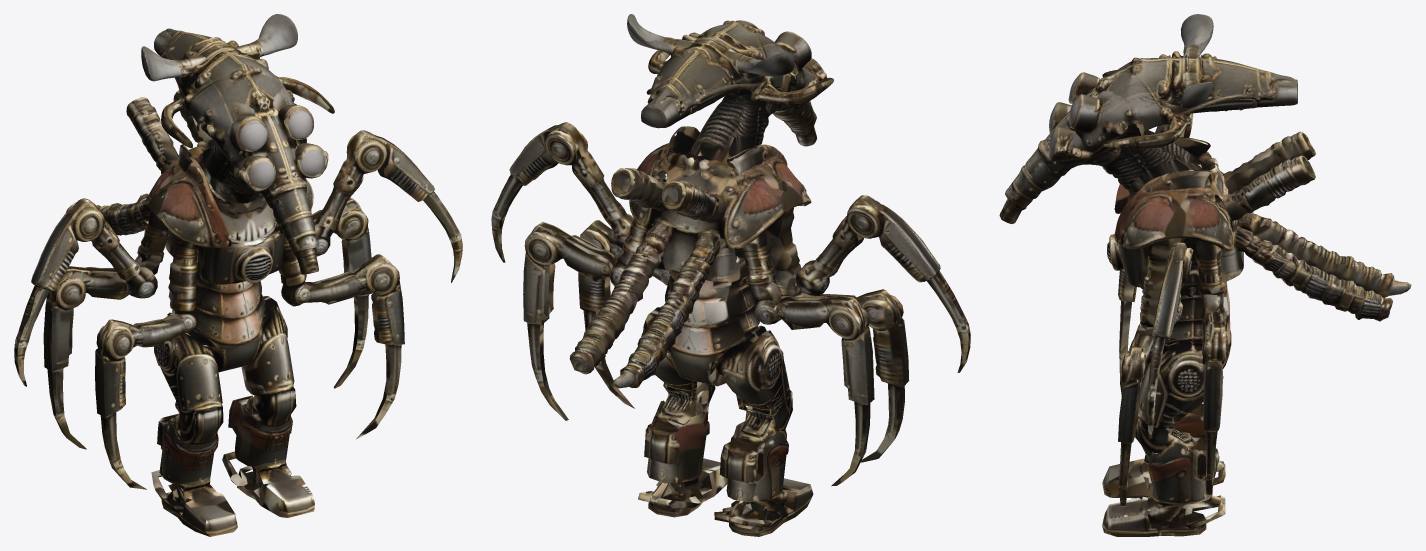
File: Mars.glb
3 renders of one model, left to right at view 1: azimuth 30°, elevation 25°; view 2: azimuth 150°, elevation 25°; view 3: azimuth 270°, elevation 25°, orthographic. The views are drawn at different scales.
Visible parts, largest first — view 1: Steampunk Robot; view 2: Steampunk Robot; view 3: Steampunk Robot.
Part boxes in pixels (x1,y1,x2,y2): Steampunk Robot: (14, 14, 462, 536); Steampunk Robot: (491, 14, 970, 536); Steampunk Robot: (999, 14, 1411, 536).
Bounding box in the file's own units: 2 × 1.98 × 1.59.
1 material, 1 textured.
